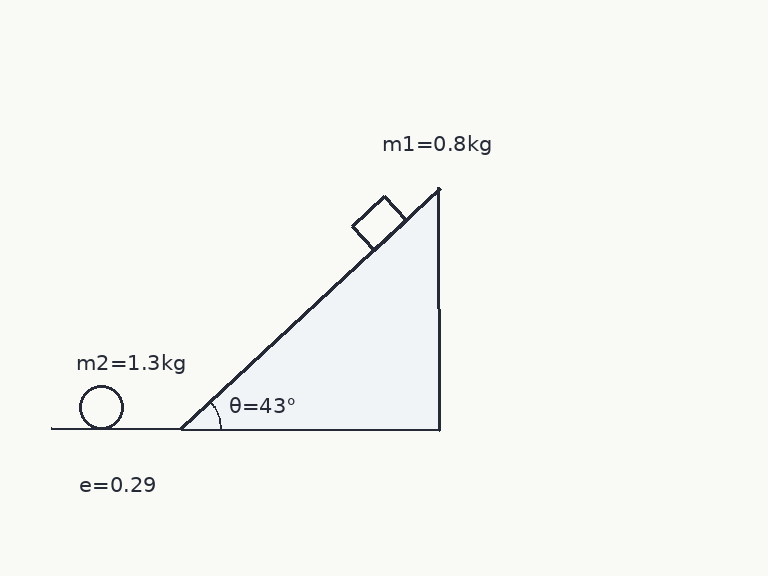ball: (77, 383, 125, 431)
block: (349, 194, 408, 252)
ramp: (179, 186, 441, 431)
